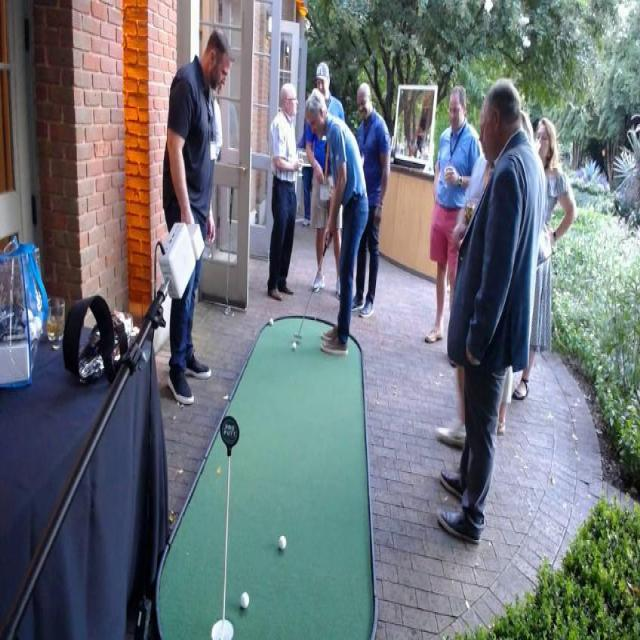GolfBall: (236, 585, 253, 615), (272, 529, 290, 555), (263, 311, 277, 334), (288, 337, 300, 355)
